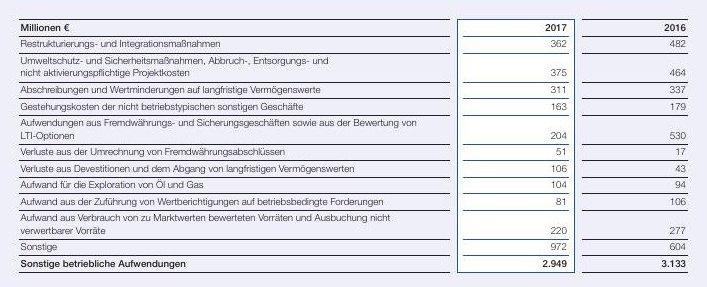table: (0, 0, 707, 287)
